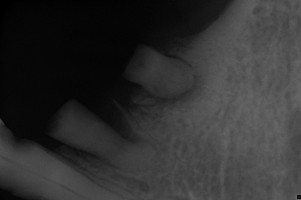Furcation Involvement: (151, 52, 203, 106)
